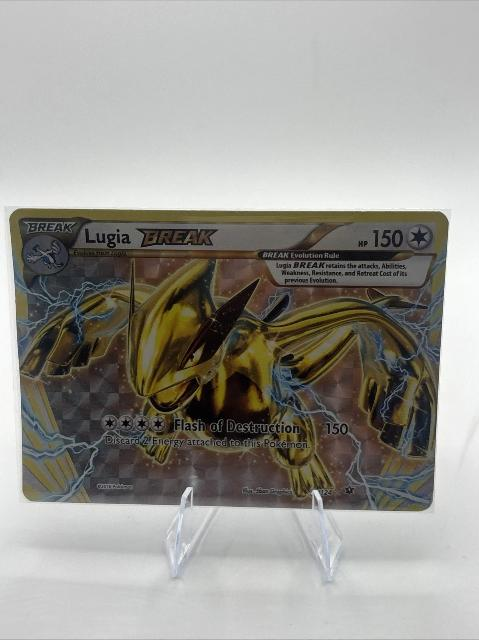Card: (6, 204, 452, 516)
Name: (77, 221, 224, 250)
